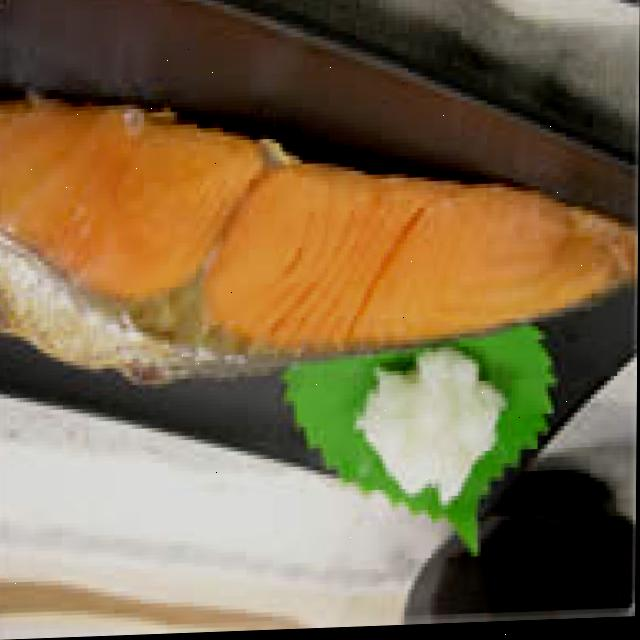熟制海鲜: (0, 51, 640, 386)
